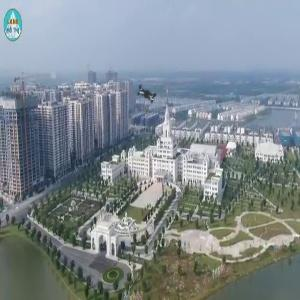drone: (121, 66, 176, 121)
